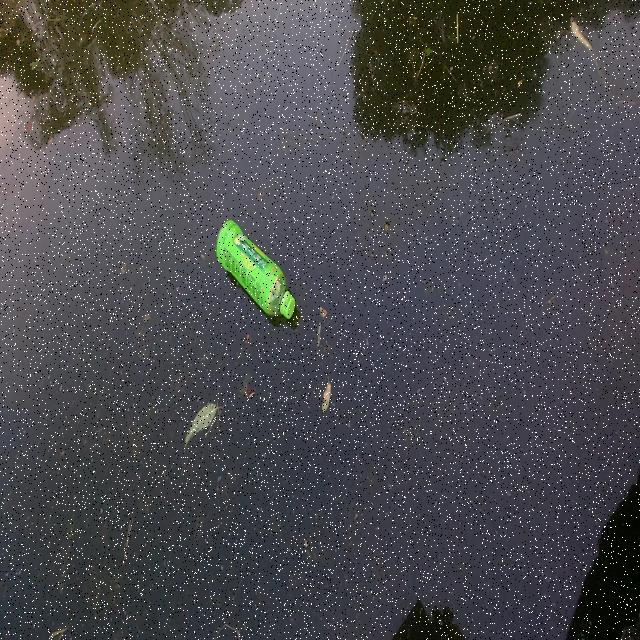Bottle: (208, 212, 297, 326)
